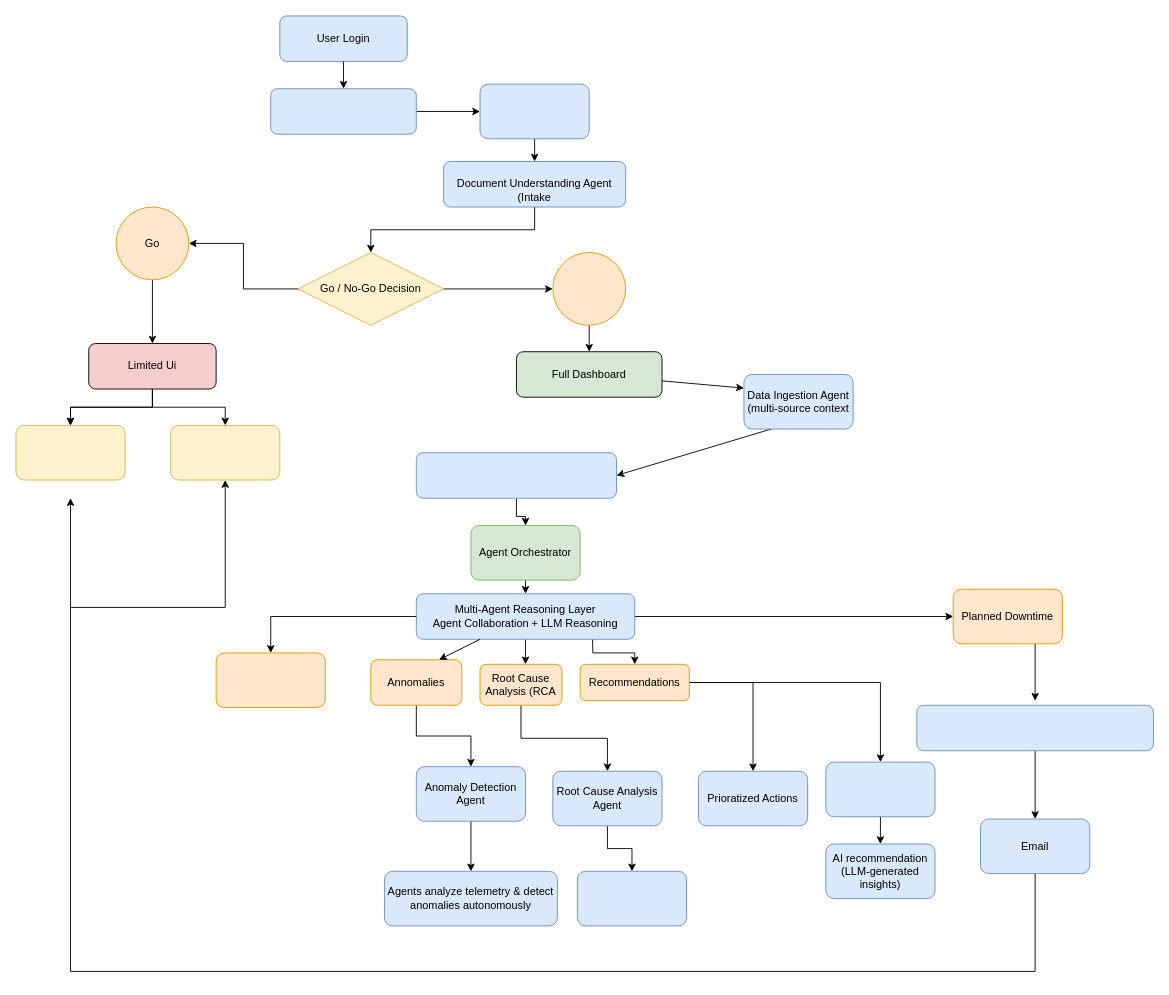
This 1169x995 diagram has some shape labels left out. The shapes that lost their labels are listed below. From the top down, each one's box as (x1, y1, x2, y2) in pixels, then its label:
(270, 88, 416, 134): QC Form Upload
(479, 83, 589, 139): Azure Document Intelligence (OCR)
(552, 252, 626, 325): No-Go
(15, 425, 125, 480): Log Out
(170, 425, 280, 480): Upload another Form
(415, 452, 617, 498): Agents continuously gather operational context
(215, 652, 325, 708): Executive Summary
(916, 704, 1153, 751): Maintainance Action Agent (Execution + Email)
(825, 761, 935, 817): Specific Guidance
(576, 870, 687, 926): Root Cause Insights
